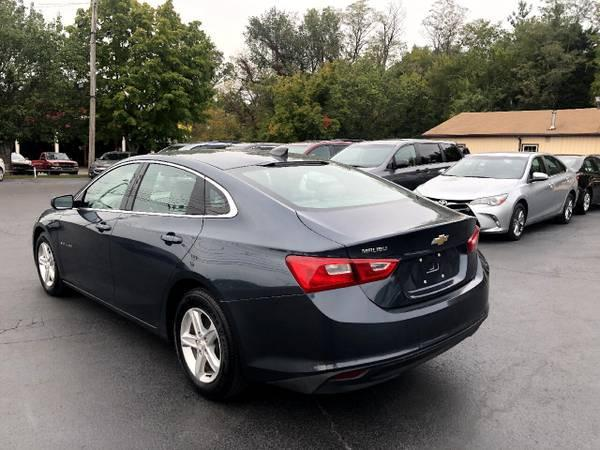Front_Left_Door: (52, 209, 115, 306)
Front_Left_Window: (66, 164, 145, 212)
Left_Taillight: (283, 253, 397, 295)
Rear_Bumper: (220, 249, 494, 391)
Rear_Fender: (172, 175, 347, 299)
Rear_Left_Door: (107, 209, 203, 336)
Rear_Left_Window: (121, 160, 205, 215)
Rear_Windshield: (232, 162, 422, 211)
Right_Taillight: (468, 227, 478, 256)
Roof: (93, 150, 326, 223)
Tailgate: (297, 199, 477, 310)
Wheel: (170, 289, 231, 392), (31, 237, 56, 292)
